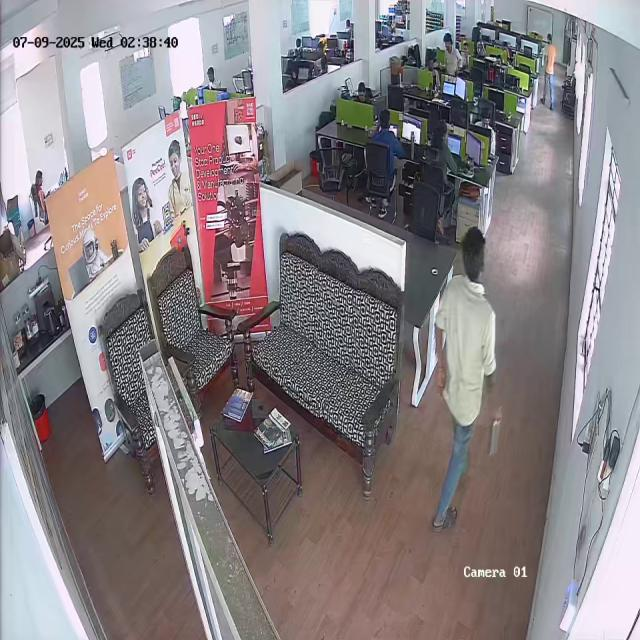person: (430, 225, 500, 534), (427, 120, 461, 196), (367, 109, 402, 178), (542, 34, 558, 110), (442, 32, 463, 77), (34, 169, 50, 208)
